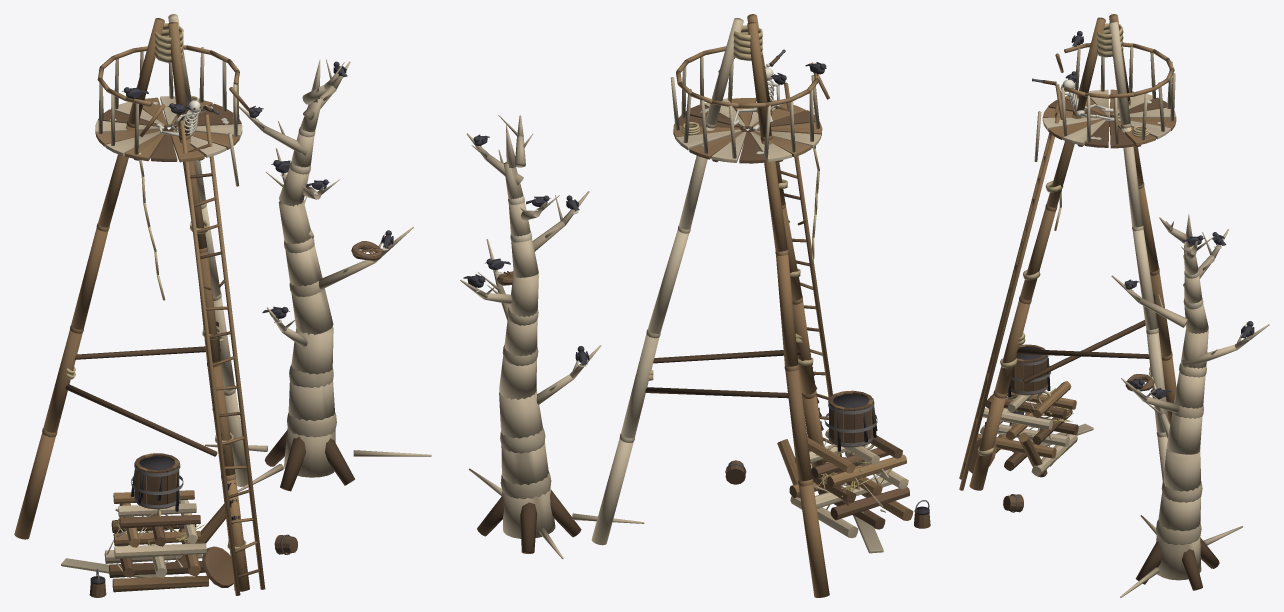
The model's file is crow_roost.65e12ea1.glb.
3 views of the same model, side by side, from view 1: azimuth 30°, elevation 25°; view 2: azimuth 150°, elevation 25°; view 3: azimuth 270°, elevation 25° (orthographic). The views are drawn at different scales.
Parts seen in each view (by area): view 1: crow_roost; view 2: crow_roost; view 3: crow_roost.
Part boxes in pixels (bbox=[...]): crow_roost: bbox=[14, 14, 431, 597]; crow_roost: bbox=[460, 14, 930, 597]; crow_roost: bbox=[959, 14, 1269, 597].
Size of the model in its own units: 7.36 by 9.31 by 5.48.
